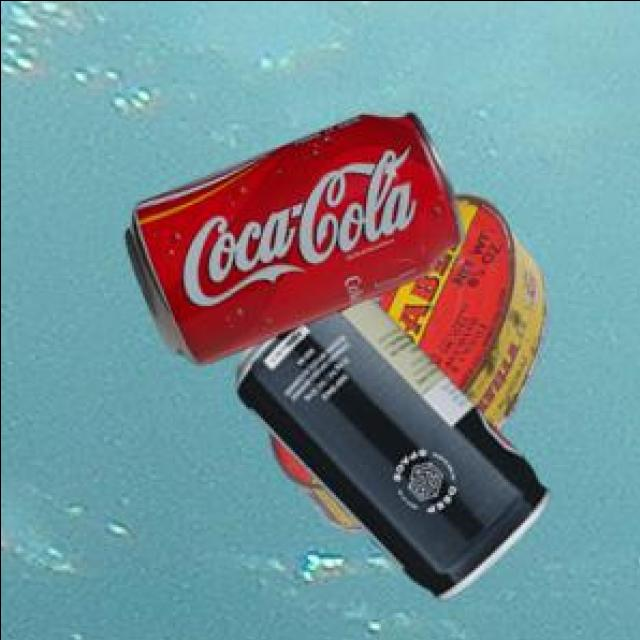logam: (233, 293, 547, 596), (266, 190, 542, 527), (121, 108, 461, 360)
